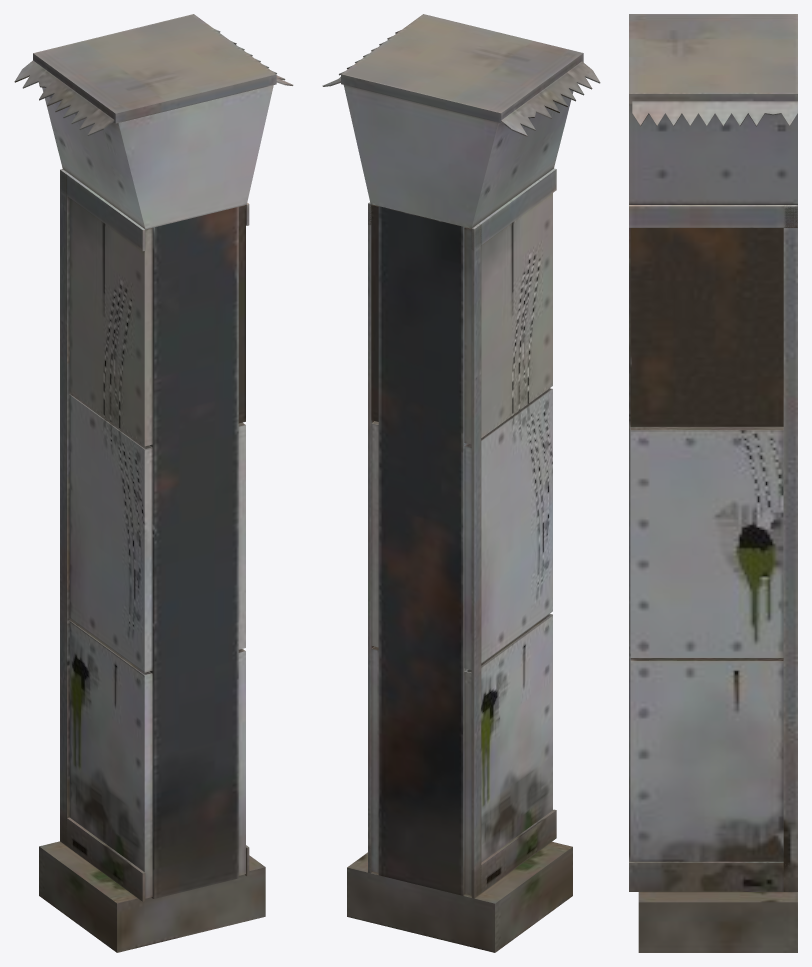
The model's file is muro_liga_lado.glb.
The picture shows the model from 3 angles, left to right: view 1: azimuth 30°, elevation 25°; view 2: azimuth 150°, elevation 25°; view 3: azimuth 270°, elevation 25°; orthographic projection. The views are drawn at different scales.
Visible parts, largest first — view 1: muro_liga_lado_corpo; view 2: muro_liga_lado_corpo; view 3: muro_liga_lado_corpo.
Part boxes in pixels (<box>): muro_liga_lado_corpo: <box>14,14,293,952</box>; muro_liga_lado_corpo: <box>322,14,600,952</box>; muro_liga_lado_corpo: <box>629,14,797,952</box>.
Bounding box in the file's own units: 0.3051 × 1.19 × 0.212.
1 material, 1 textured.
